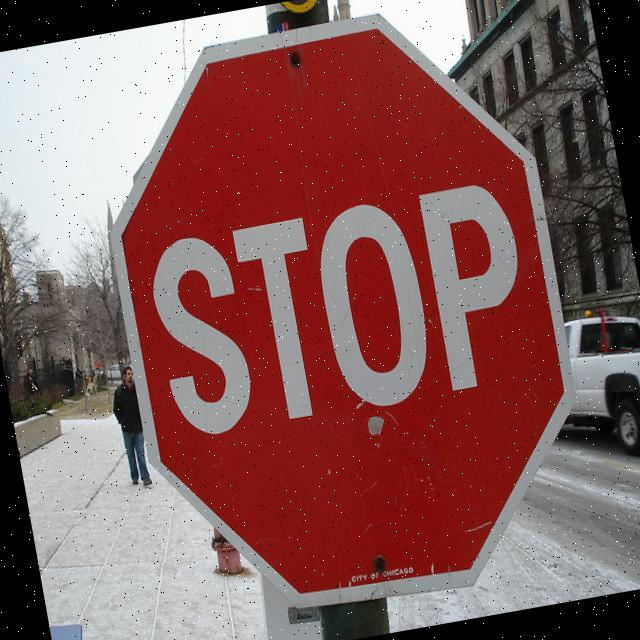fire_hydrant: (208, 523, 244, 577)
